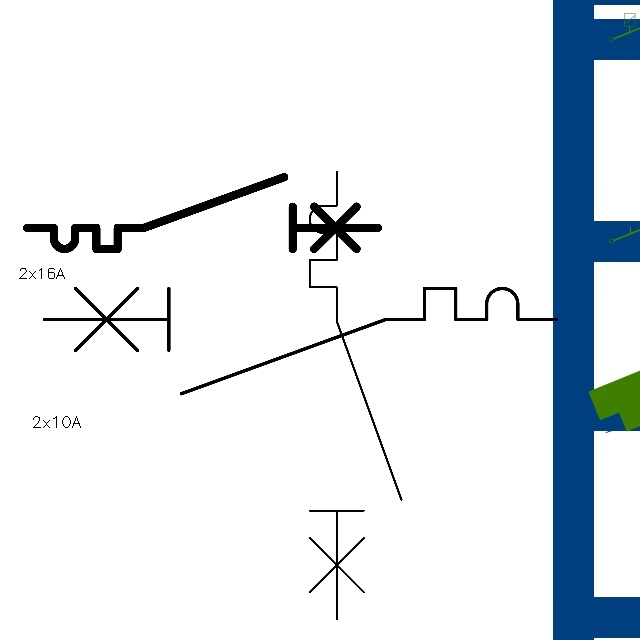interruptor_termomagnetico: (31, 275, 570, 407), (298, 160, 413, 631), (18, 168, 387, 258)
